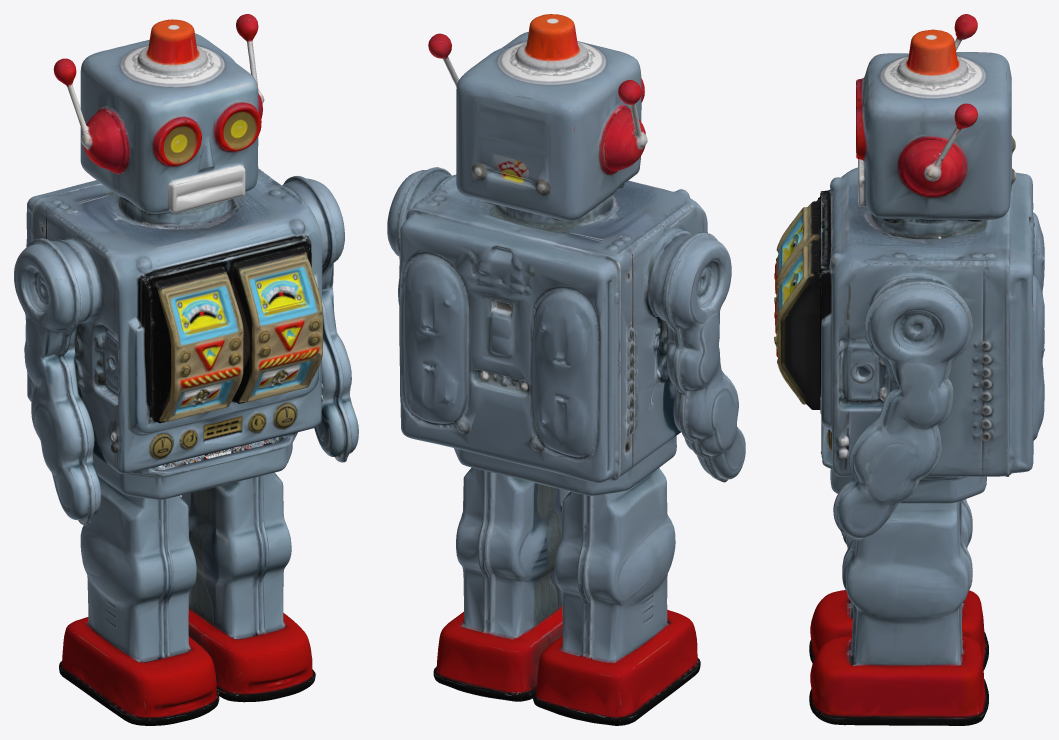
The model's file is classic_retro_vintage_metal_robot_toy_meshy_6.glb.
3 renders of one model, left to right at view 1: azimuth 30°, elevation 25°; view 2: azimuth 150°, elevation 25°; view 3: azimuth 270°, elevation 25°, orthographic. The views are drawn at different scales.
Parts seen in each view (by area): view 1: Mesh1.0_Material.001_0 (×2); view 2: Mesh1.0_Material.001_0; view 3: Mesh1.0_Material.001_0 (×2).
Boxes of the visible parts, x1,y1,x2,y2 form: Mesh1.0_Material.001_0 (×2): (14,14,358,725); Mesh1.0_Material.001_0: (387,14,745,725); Mesh1.0_Material.001_0 (×2): (774,14,1044,725).
Size of the model in its own units: 0.1452 by 0.3 by 0.1145.
1 material, 1 textured.
